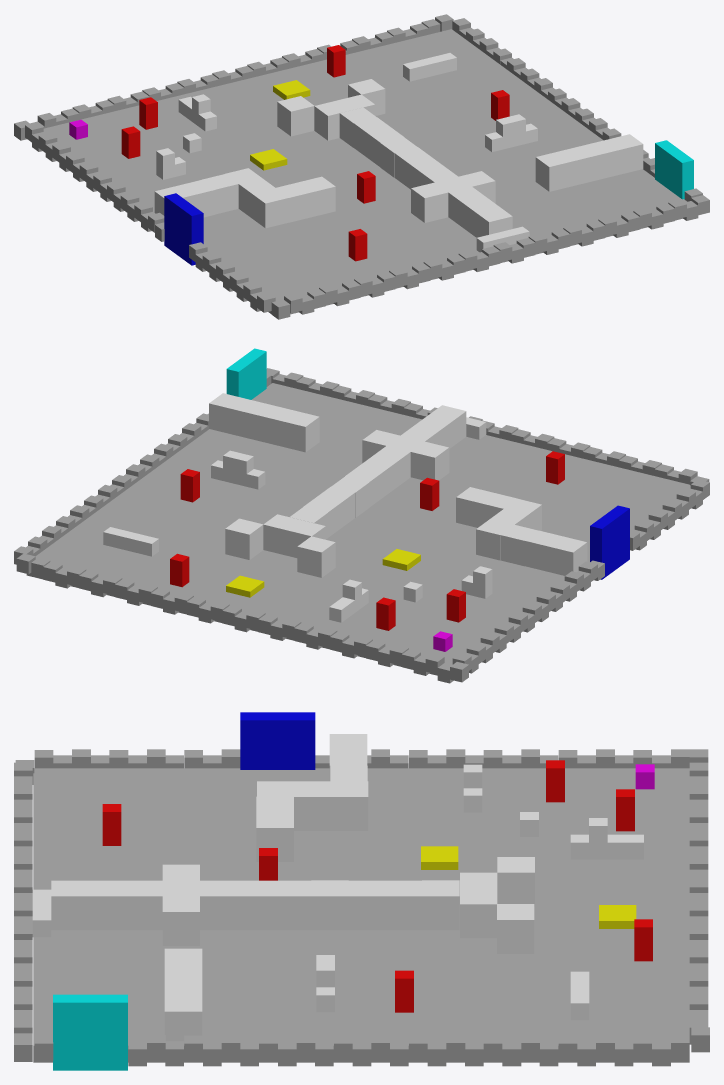
Rendered from level1_b6_35.fbx.
The picture shows the model from 3 angles, top to bottom: view 1: azimuth 30°, elevation 25°; view 2: azimuth 150°, elevation 25°; view 3: azimuth 270°, elevation 25°; orthographic projection. The views are drawn at different scales.
Visible parts, largest first — view 1: pCube1, pCube180, pCube179, pCube175, pCube152, pCube154, pCube164, pCube174, pCube160, pCube149, pCube150, pCube161 (+24 smaller); view 2: pCube1, pCube180, pCube179, pCube175, pCube172, pCube152, pCube154, pCube167, pCube173, pCube149, pCube150, pCube166 (+24 smaller); view 3: pCube1, pCube179, pCube180, pCube170, pCube162, pCube153, pCube178, pCube177, pCube176, pCube168, pCube158, pCube171 (+28 smaller).
Boxes of the visible parts, x1,y1,x2,y2 form: pCube1: [43, 29, 686, 314]; pCube180: [164, 193, 203, 265]; pCube179: [655, 140, 693, 199]; pCube175: [277, 96, 314, 136]; pCube152: [535, 151, 572, 191]; pCube154: [411, 182, 448, 222]; pCube164: [252, 188, 288, 228]; pCube174: [314, 100, 351, 140]; pCube160: [275, 182, 312, 222]; pCube149: [606, 134, 643, 174]; pCube150: [583, 140, 619, 180]; pCube161: [299, 176, 335, 216]; pCube1: [26, 383, 690, 675]; pCube180: [590, 505, 629, 579]; pCube179: [226, 348, 266, 399]; pCube175: [297, 536, 335, 577]; pCube172: [225, 518, 263, 559]; pCube152: [281, 411, 319, 452]; pCube154: [411, 441, 449, 480]; pCube167: [549, 536, 587, 575]; pCube173: [263, 514, 301, 555]; pCube149: [209, 393, 246, 434]; pCube150: [233, 399, 270, 440]; pCube166: [524, 530, 562, 571]; pCube1: [33, 768, 689, 1062]; pCube179: [53, 994, 127, 1070]; pCube180: [240, 712, 315, 769]; pCube170: [273, 880, 311, 930]; pCube162: [330, 781, 368, 830]; pCube153: [125, 880, 162, 930]; pCube178: [422, 880, 459, 930]; pCube177: [384, 880, 422, 930]; pCube176: [347, 880, 384, 930]; pCube168: [236, 880, 273, 930]; pCube158: [51, 880, 88, 930]; pCube171: [311, 880, 348, 930].
Bounding box in the file's own units: 37.42 × 4.46 × 37.1.
